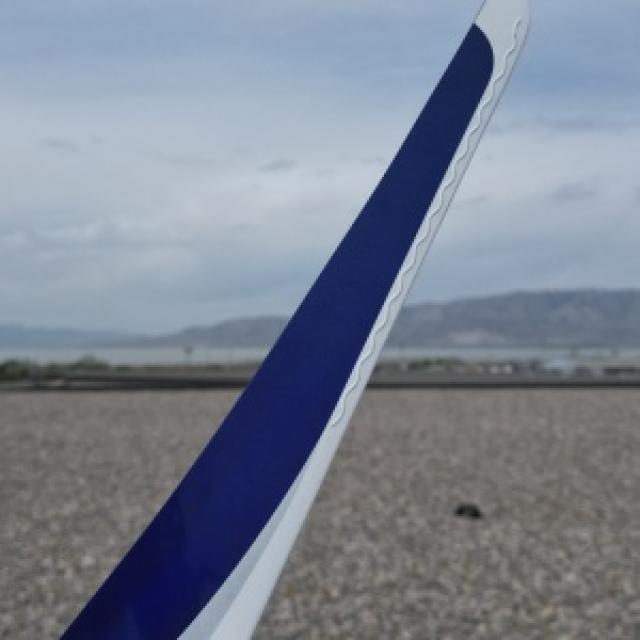healthy: (58, 0, 525, 638)
